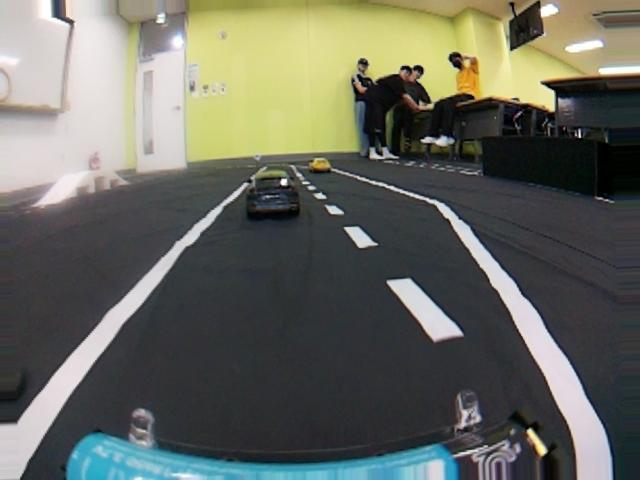car: (241, 161, 307, 220), (308, 156, 334, 177)
straight: (3, 241, 640, 478)
